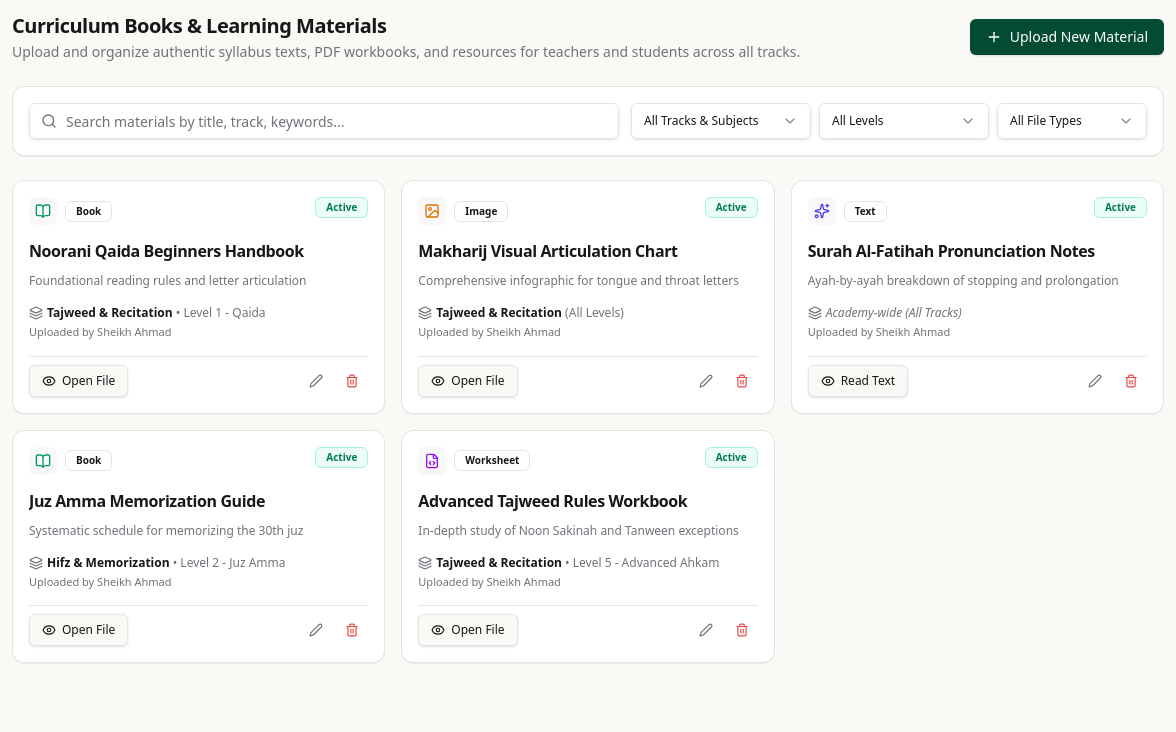
Test: Learning Materials Feature › filters learning materials by search keyword in directory
Expected: the text "Noorani Qaida Beginners Handbook" is shown, [29, 240, 304, 262]
Type "Makharij" into the field with placeholder "Search materials by title, track, keywords...".
click(324, 121); type("Makharij")  # box [29, 103, 619, 139]
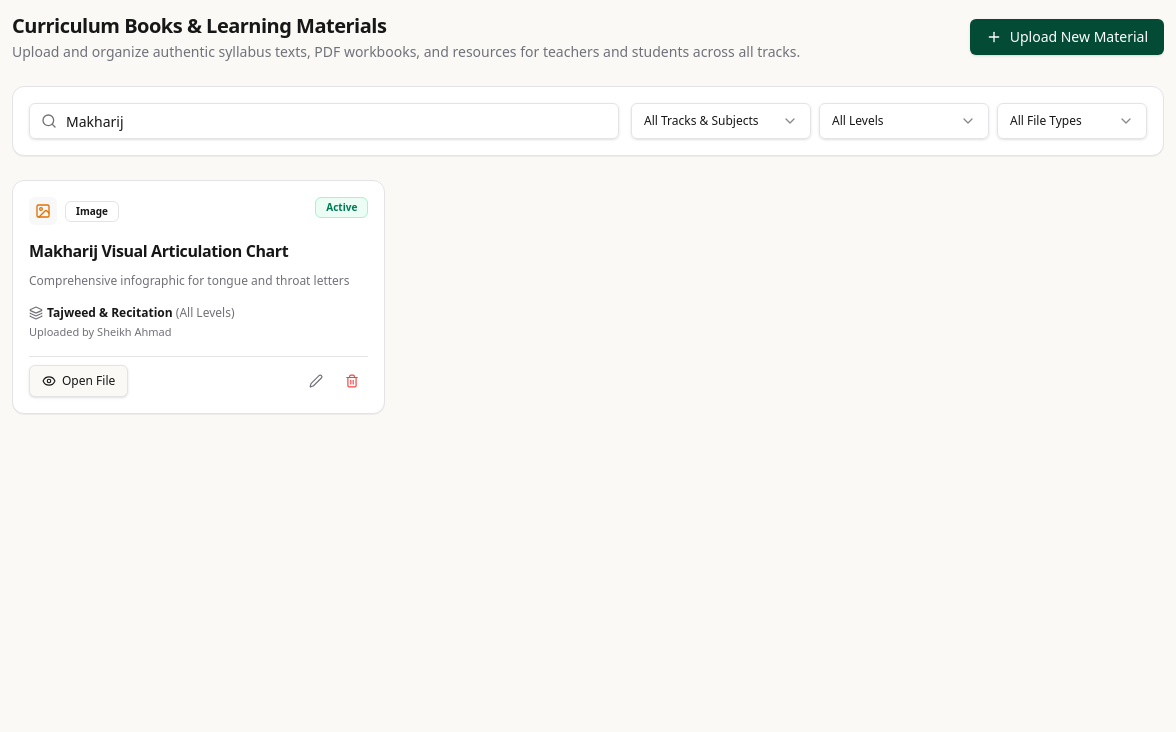
Expected: the text "Makharij Visual Articulation Chart" is shown, [29, 240, 288, 262]
Now the text "Noorani Qaida Beginners Handbook" is gone
